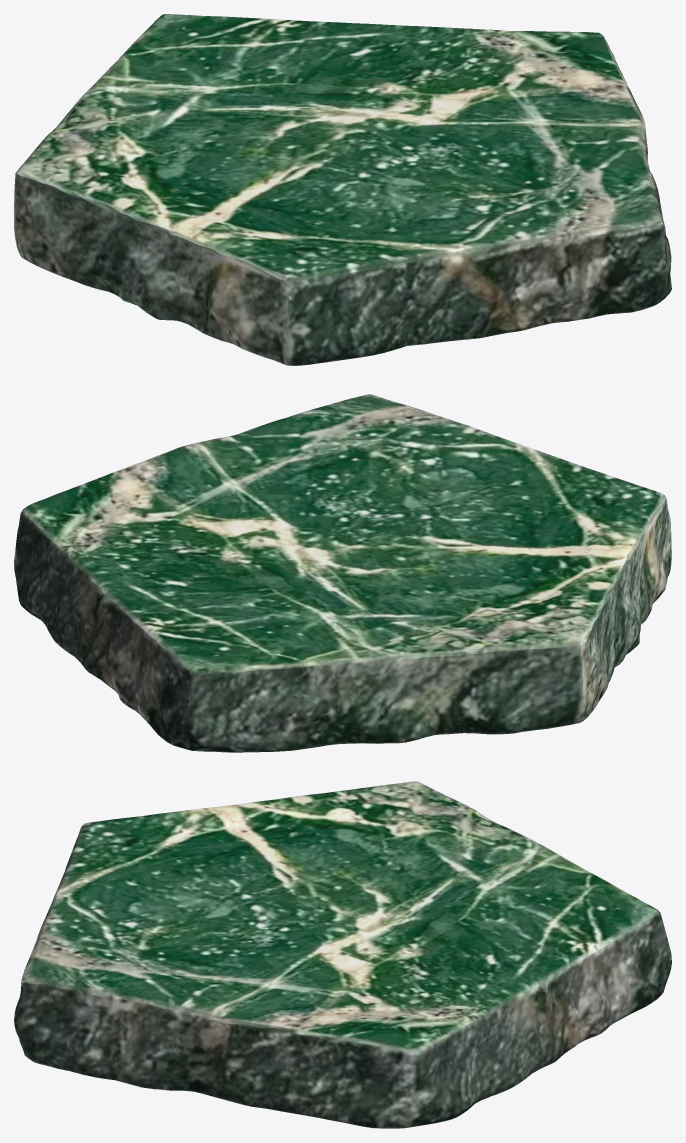
File: remnant-d.glb
3 views of the same model, one above another, from view 1: azimuth 30°, elevation 25°; view 2: azimuth 150°, elevation 25°; view 3: azimuth 270°, elevation 25° (orthographic). The views are drawn at different scales.
Visible parts, largest first — view 1: geometry_0; view 2: geometry_0; view 3: geometry_0.
Part boxes in pixels (box(x1,y1,x2,y2)): geometry_0: box(14, 14, 671, 365); geometry_0: box(14, 394, 671, 752); geometry_0: box(14, 781, 671, 1128).
Size of the model in its own units: 0.15 by 0.0214 by 0.1539.
1 material, 1 textured.
